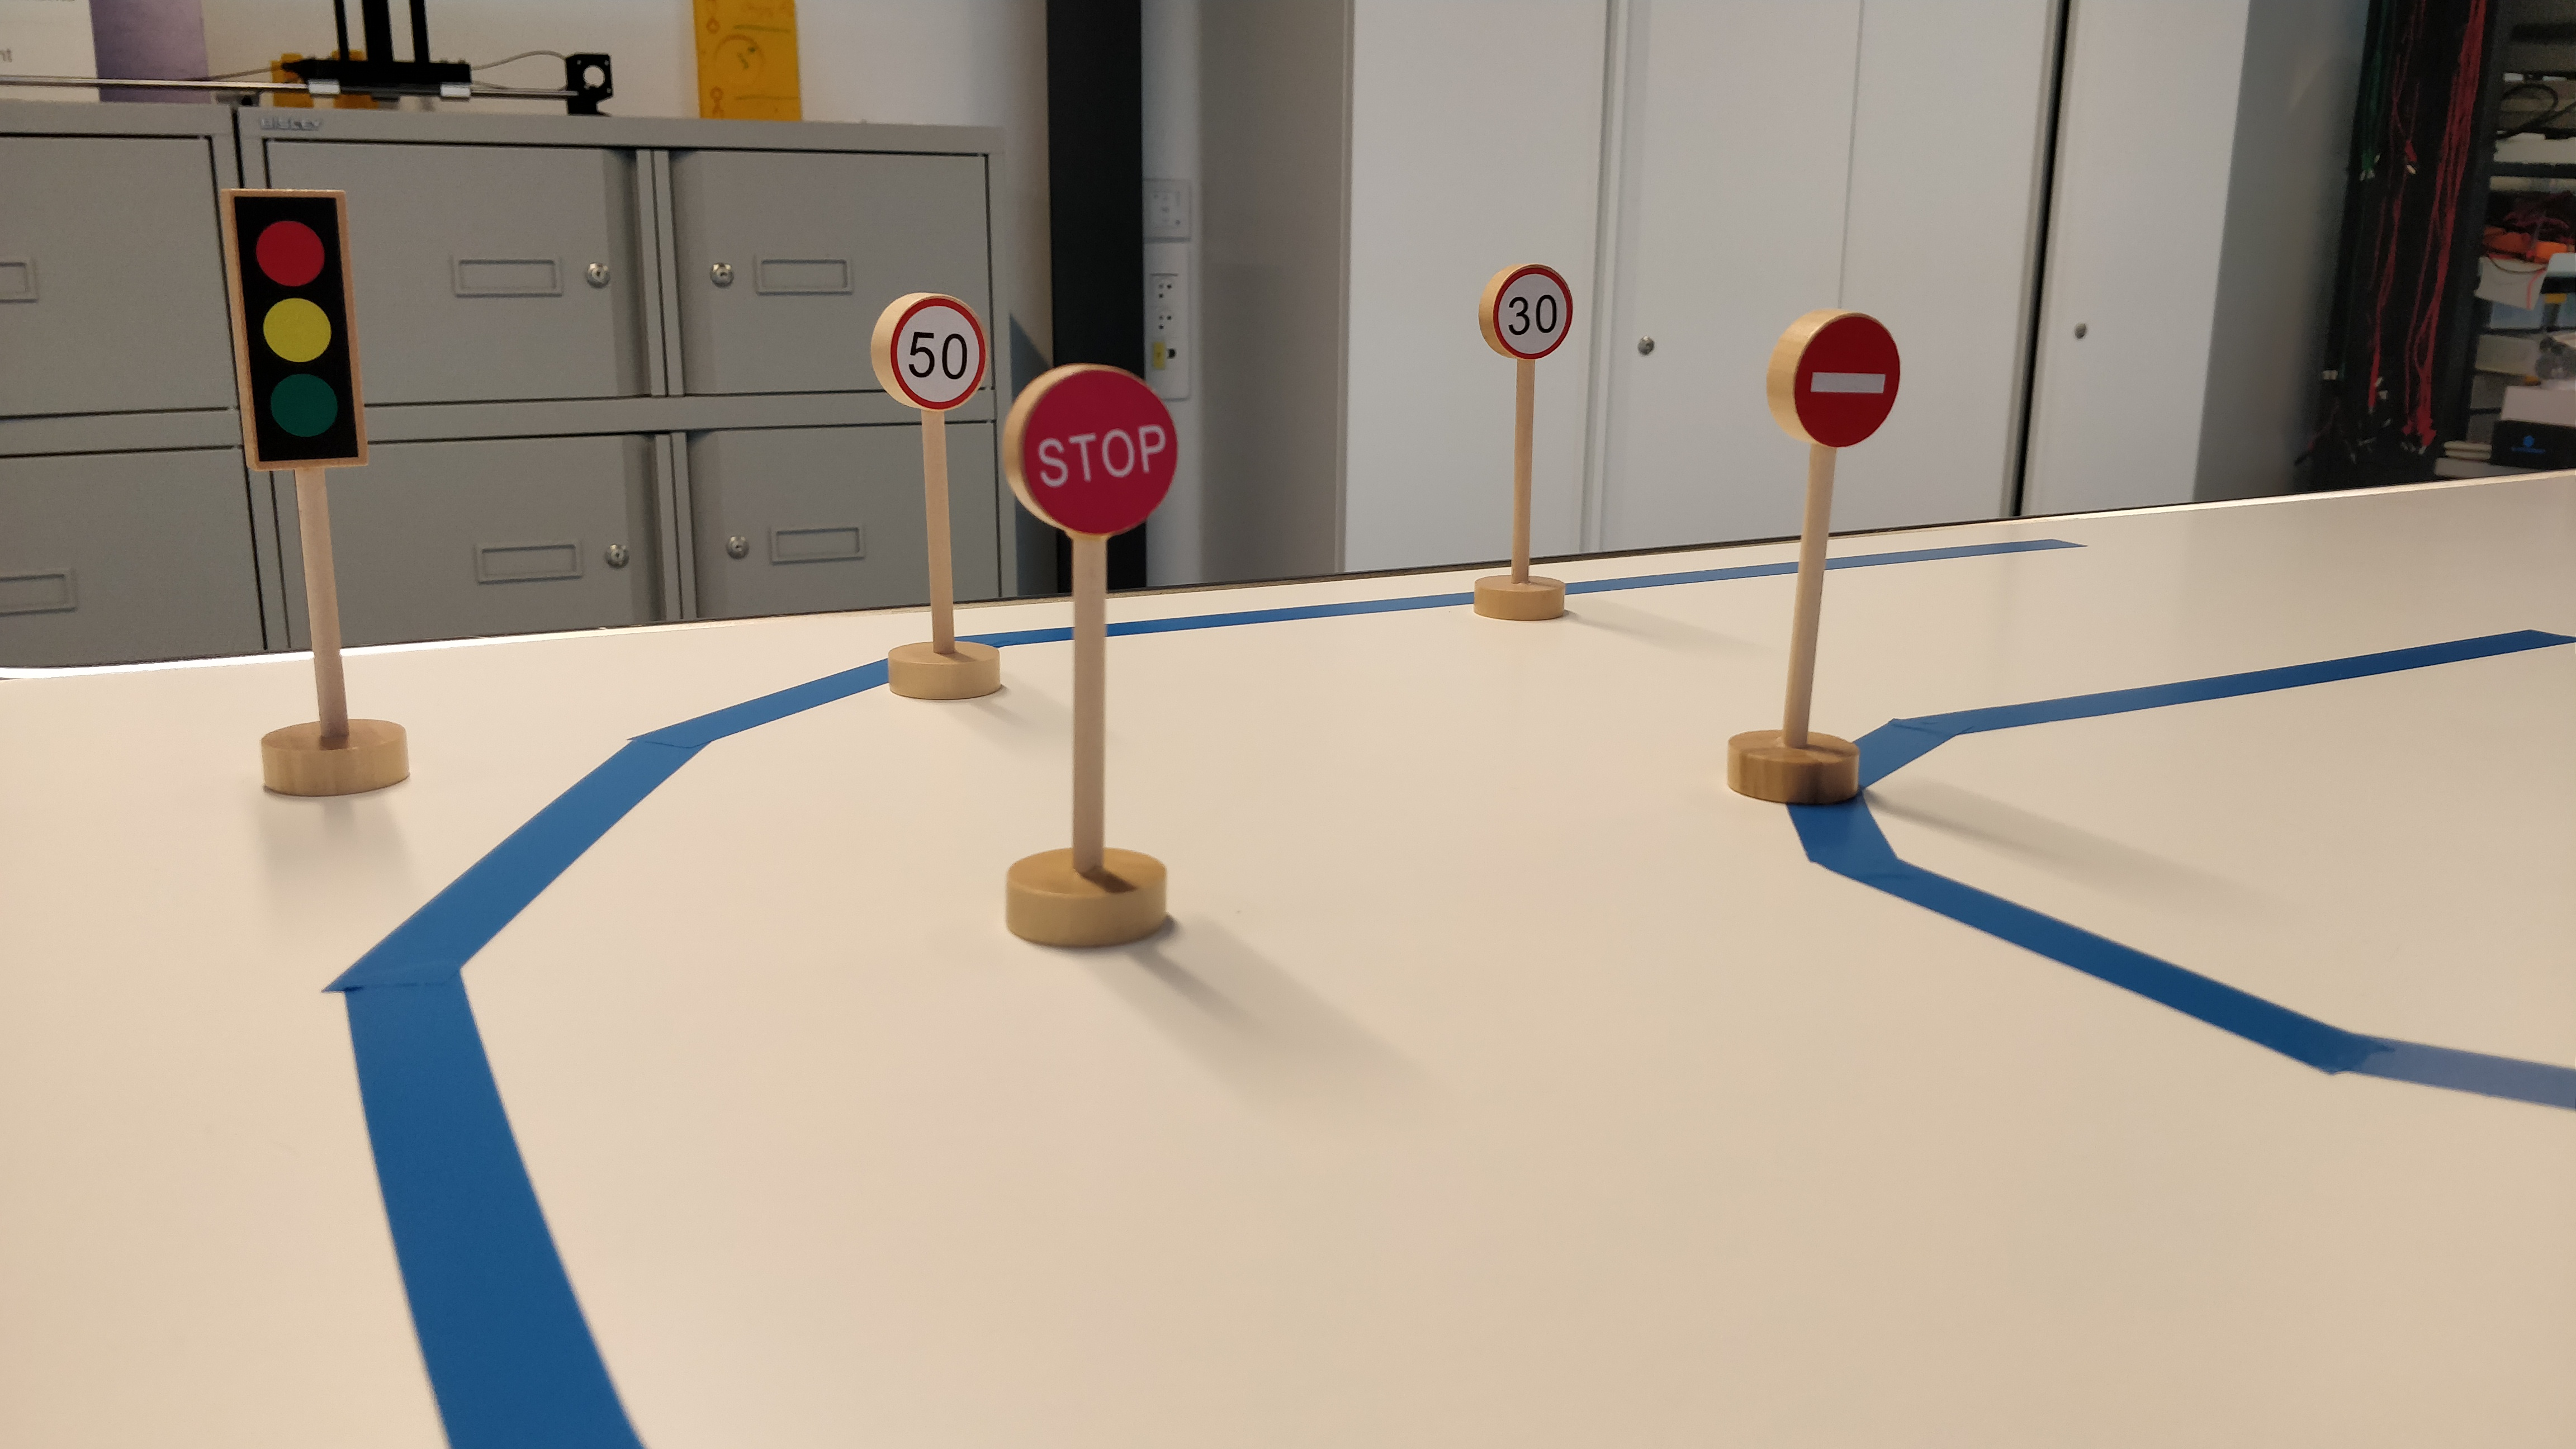Prohibition Sign: (1760, 304, 1905, 451)
Speed Limit 30: (1474, 262, 1575, 366)
Speed Limit 50: (867, 288, 993, 415)
Stop Sign: (1001, 365, 1178, 537)
Traffic Light: (210, 179, 377, 470)
